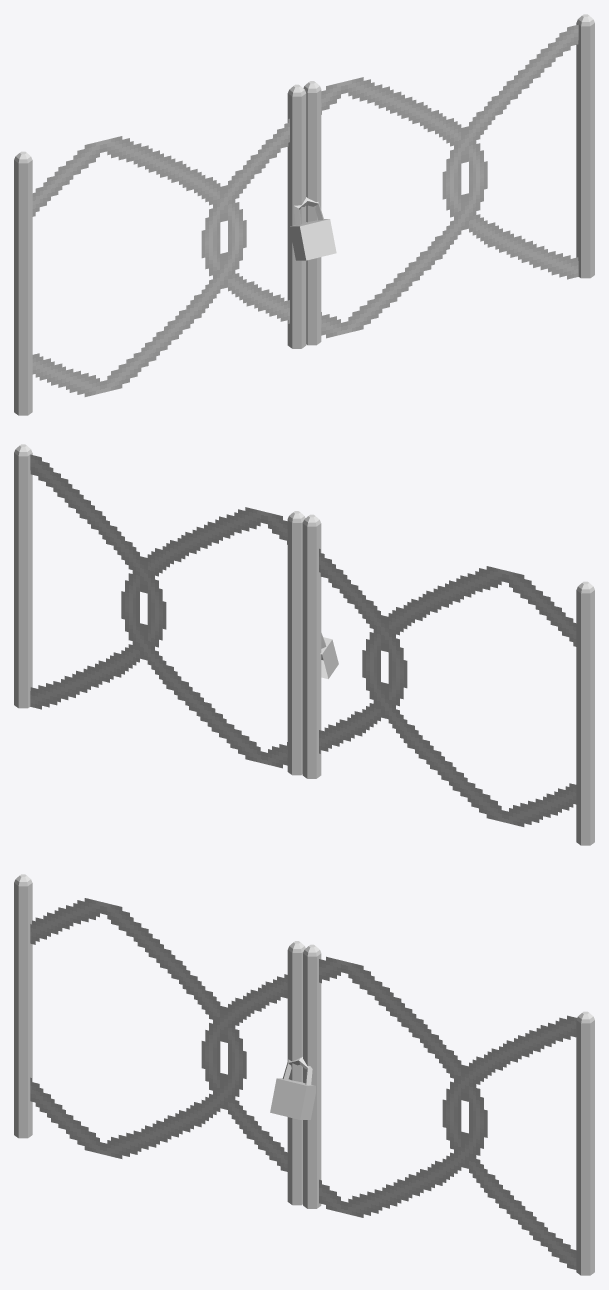
File: SM_Gate.dae
3 views of the same model, one above another, from view 1: azimuth 30°, elevation 25°; view 2: azimuth 150°, elevation 25°; view 3: azimuth 330°, elevation 25° (orthographic).
Visible parts, largest first — view 1: GateFence, GateEnds, Lock; view 2: GateFence, GateEnds, Lock; view 3: GateFence, GateEnds, Lock.
Part boxes in pixels (<box>): GateFence: <box>32,24,578,396</box>; GateEnds: <box>14,14,594,415</box>; Lock: <box>289,197,336,260</box>; GateFence: <box>30,454,576,826</box>; GateEnds: <box>14,444,594,845</box>; Lock: <box>320,633,338,679</box>; GateFence: <box>30,898,576,1269</box>; GateEnds: <box>14,874,594,1275</box>; Lock: <box>270,1057,315,1119</box>.
Bounding box in the file's own units: 7.17 × 0.491 × 3.09.
